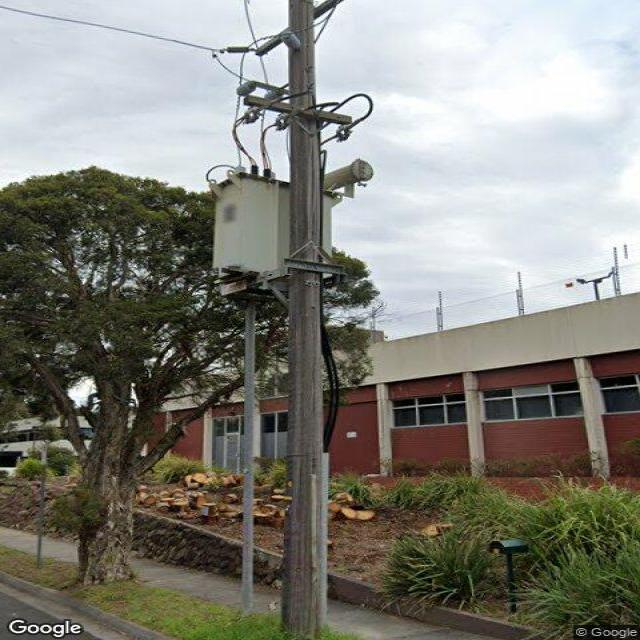HV-transmission: (223, 31, 352, 143)
crossarm: (254, 0, 346, 56), (244, 97, 352, 125)
timber-pole: (277, 0, 325, 639)
transformer: (215, 158, 368, 295)
